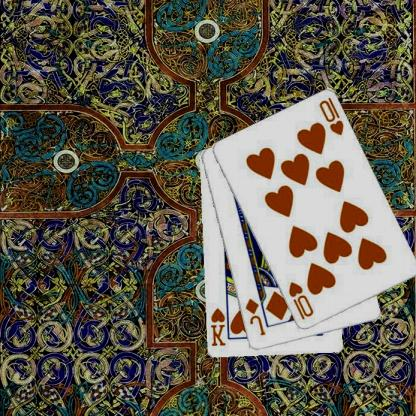10H: (318, 96, 347, 138), (288, 280, 316, 322)
JD: (244, 296, 269, 337)
KH: (210, 306, 228, 348)
